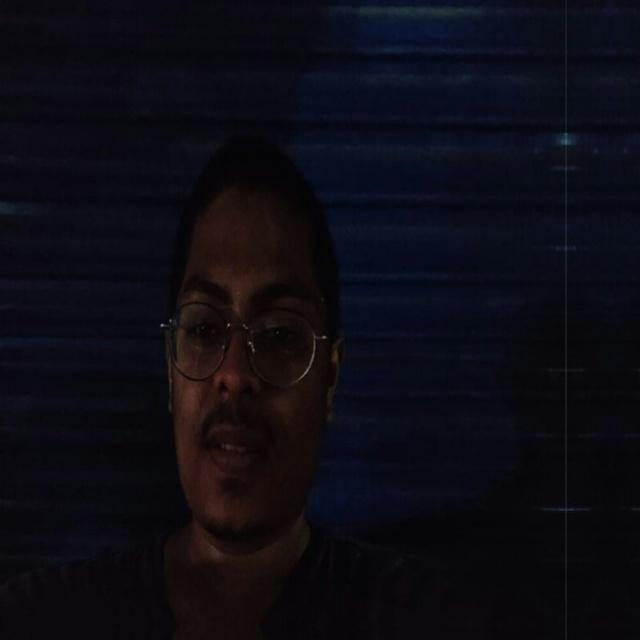Natural: (129, 195, 417, 600)
